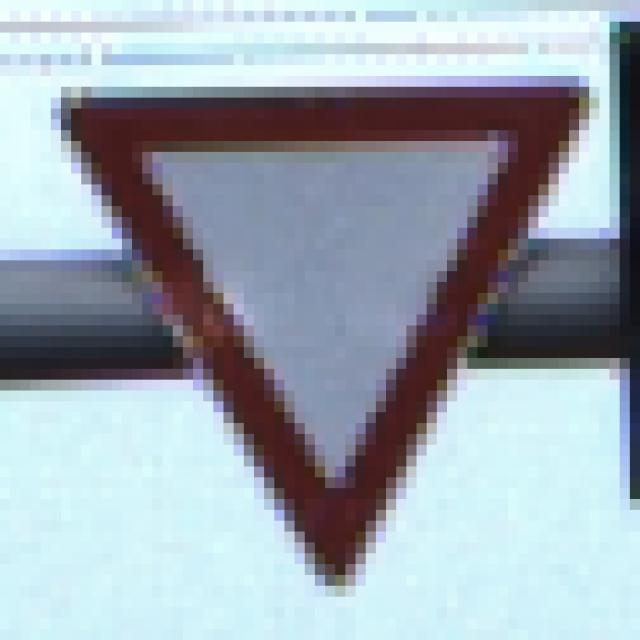Give Way: (52, 66, 590, 587)
